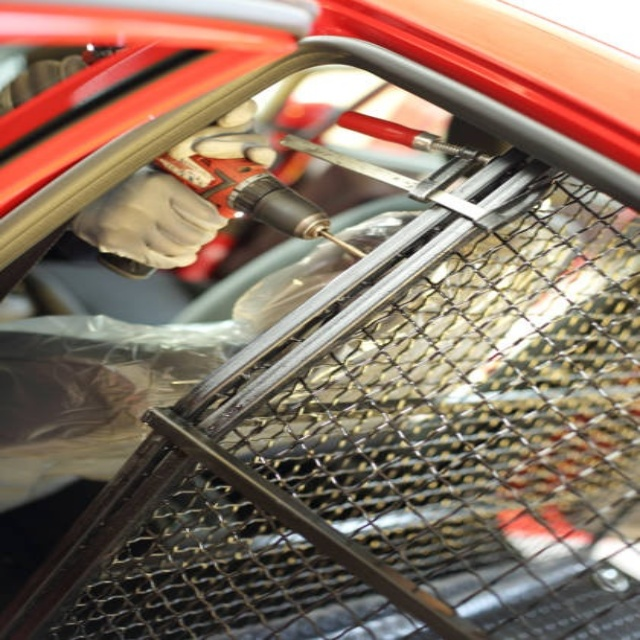Guantes: (61, 172, 250, 271), (168, 93, 296, 164)
